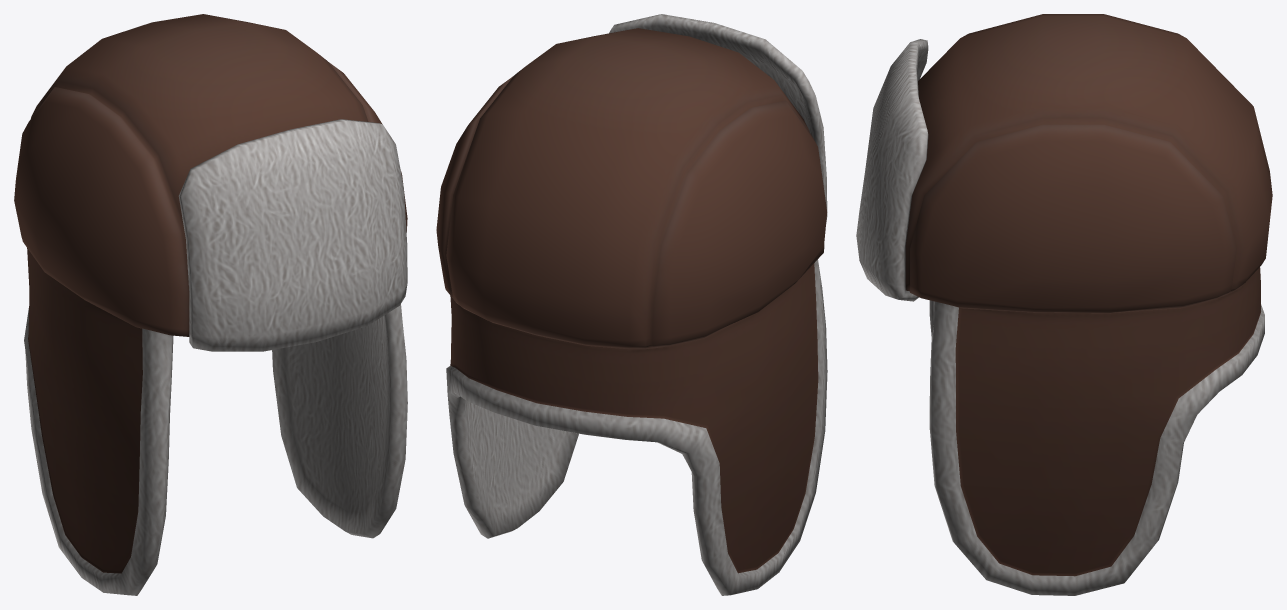
File: FurHat.FBX
3 renders of one model, left to right at view 1: azimuth 30°, elevation 25°; view 2: azimuth 150°, elevation 25°; view 3: azimuth 270°, elevation 25°, orthographic.
Visible parts, largest first — view 1: FurHat; view 2: FurHat; view 3: FurHat.
Boxes of the visible parts, x1=… form: FurHat: x1=14, y1=14, x2=407, y2=595; FurHat: x1=436, y1=14, x2=827, y2=595; FurHat: x1=856, y1=14, x2=1272, y2=595.
Bounding box in the file's own units: 33.83 × 52.92 × 39.94.
1 material, 1 textured.
